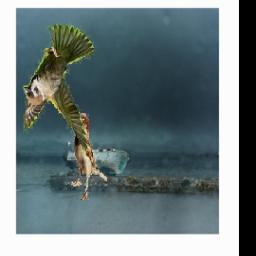Sparrow: (24, 24, 95, 155), (69, 113, 108, 200)
